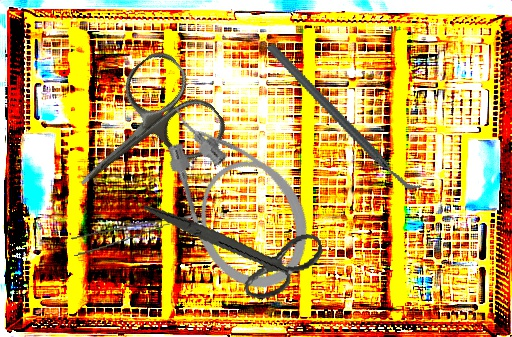Cannula: (143, 77, 329, 307)
Chopper: (265, 12, 423, 222)
Iris Scissors: (46, 44, 233, 226), (143, 173, 330, 318)
Tissue Forceps: (70, 213, 199, 257)
